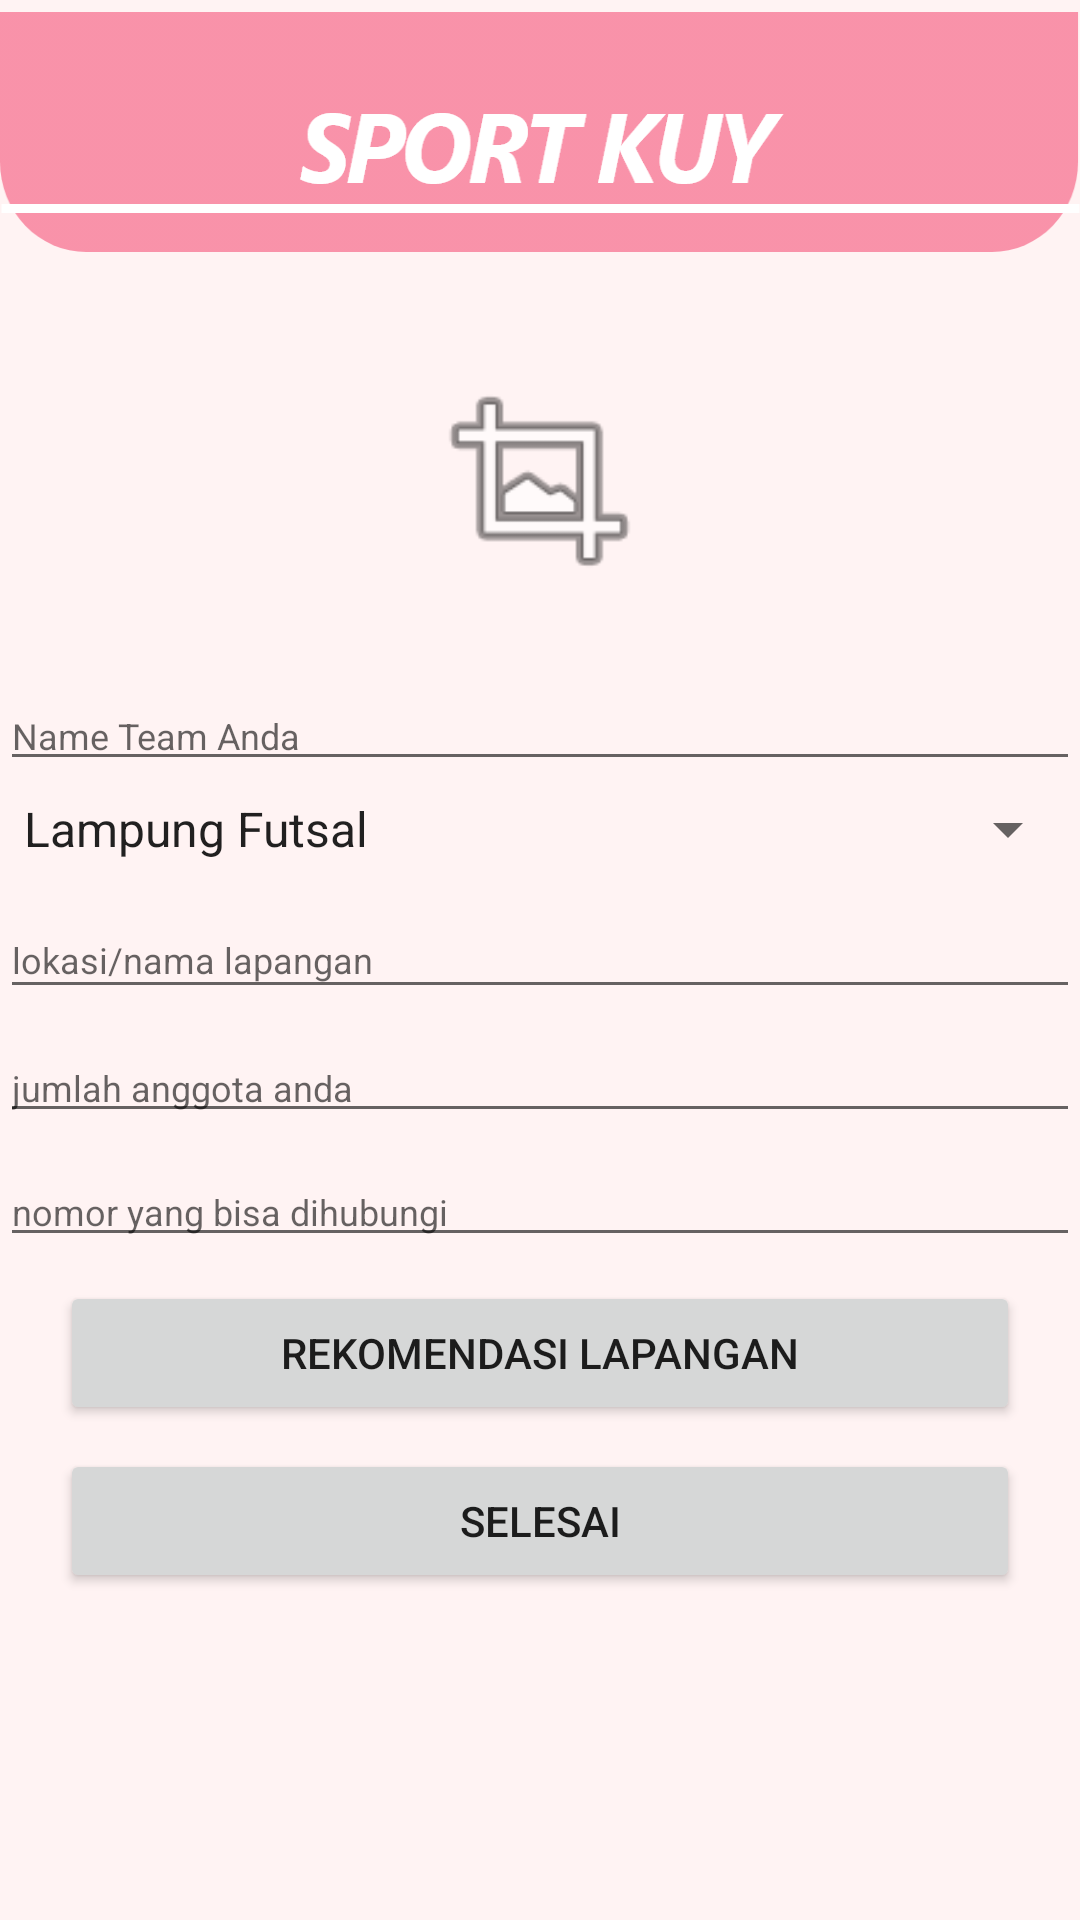

Screen size 1080×1920. Icon name, then its center in pixels as (x=x, y=y):
crop: (x=539, y=481)
